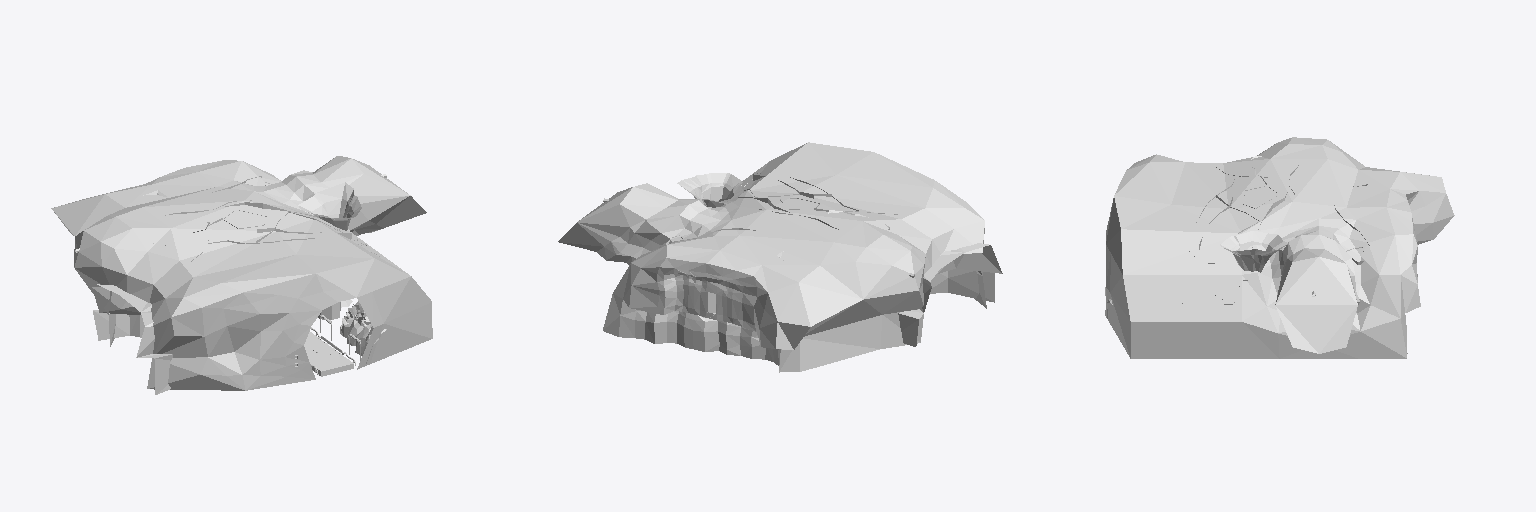
File: stg610_20.obj
3 renders of one model, left to right at view 1: azimuth 30°, elevation 25°; view 2: azimuth 150°, elevation 25°; view 3: azimuth 270°, elevation 25°, orthographic.
Visible parts, largest first — view 1: polygon178, polygon21, polygon18, polygon168; view 2: polygon178, polygon21, polygon18; view 3: polygon178, polygon18.
Part boxes in pixels (x1,y1,x2,y2): polygon178: (51, 156, 432, 390); polygon21: (92, 284, 172, 394); polygon18: (298, 182, 361, 307); polygon168: (340, 312, 386, 363); polygon178: (558, 142, 986, 372); polygon21: (898, 243, 1002, 346); polygon18: (677, 173, 742, 207); polygon178: (1105, 137, 1454, 358); polygon18: (1220, 231, 1287, 272).
Size of the model in its own units: 2147 by 642 by 1831.